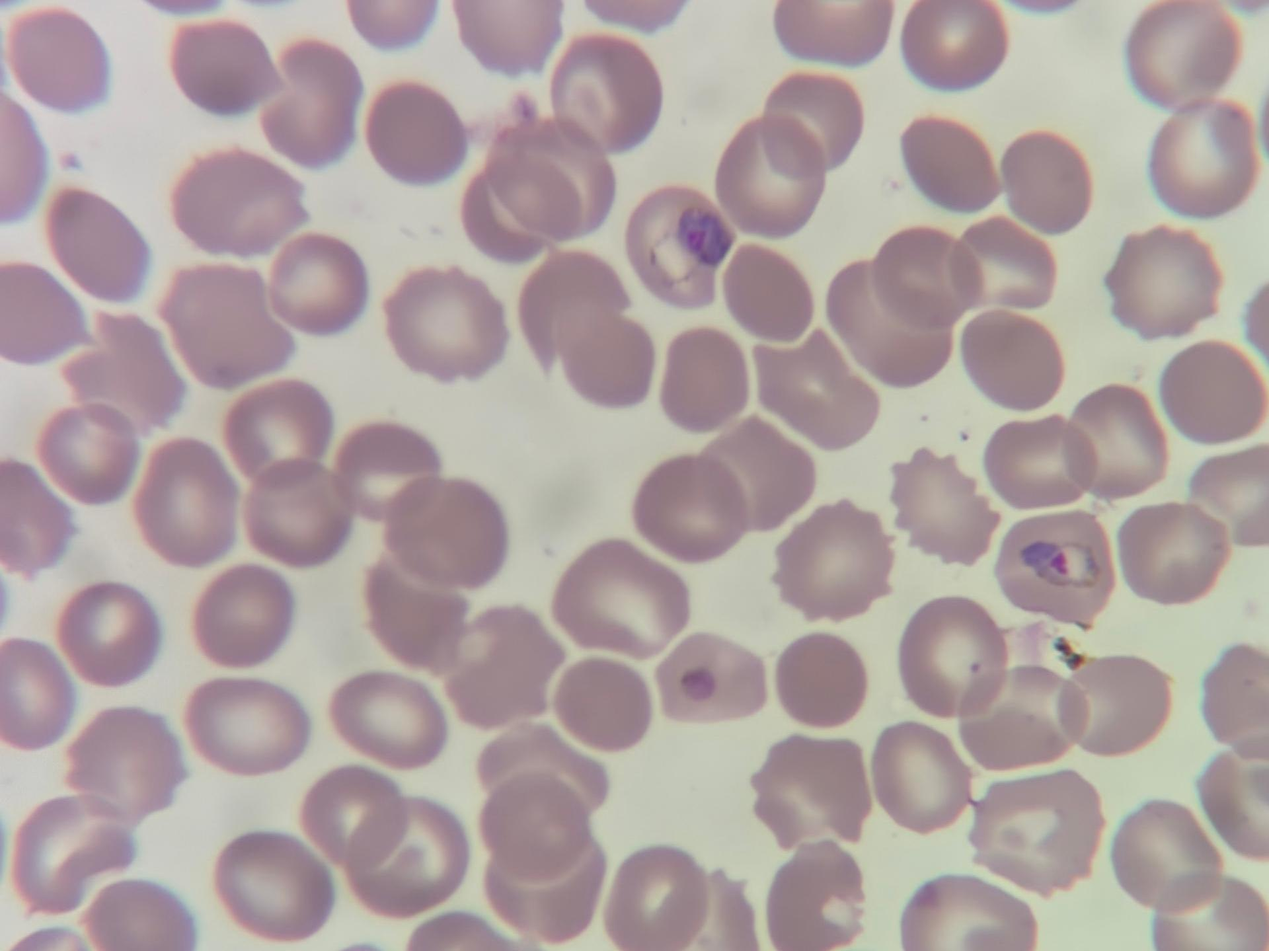Infected: (998, 510, 1124, 636), (626, 177, 739, 308)
Uninfected: (476, 157, 626, 324), (161, 261, 301, 393), (335, 803, 474, 932), (626, 457, 761, 587), (762, 322, 884, 462), (820, 258, 949, 389), (972, 767, 1109, 888), (1104, 223, 1238, 346), (337, 426, 464, 550), (952, 662, 1090, 772), (775, 499, 894, 624), (436, 604, 554, 730), (15, 792, 132, 918), (485, 126, 617, 237), (560, 534, 683, 653), (892, 452, 1005, 581), (176, 151, 304, 262), (216, 377, 335, 496), (701, 120, 824, 234), (386, 265, 507, 380), (683, 424, 820, 525), (753, 737, 874, 849), (392, 485, 516, 594), (269, 45, 372, 176), (527, 247, 633, 374), (1146, 102, 1263, 214), (130, 437, 232, 565), (40, 181, 151, 298), (485, 831, 604, 940), (66, 318, 189, 423), (1124, 796, 1232, 915), (196, 677, 317, 783), (608, 833, 715, 951), (868, 225, 980, 337), (70, 710, 185, 819), (657, 322, 756, 448), (242, 452, 342, 574), (480, 721, 605, 818), (764, 842, 875, 950), (1128, 0, 1240, 107), (643, 633, 765, 730), (1035, 655, 1163, 747), (762, 71, 871, 179), (370, 78, 473, 190), (875, 710, 975, 825), (1066, 384, 1166, 499), (478, 772, 586, 878), (185, 556, 294, 661), (901, 600, 1003, 711), (59, 578, 154, 696), (555, 36, 655, 148), (963, 309, 1062, 421), (1115, 502, 1228, 599), (273, 239, 386, 334), (996, 122, 1078, 251), (330, 666, 442, 759), (40, 406, 138, 512), (4, 5, 101, 105), (172, 27, 272, 124), (908, 1, 1011, 95), (908, 875, 1035, 951), (952, 212, 1058, 302), (903, 120, 994, 223), (778, 626, 872, 724), (368, 567, 458, 669), (987, 426, 1096, 509), (725, 245, 812, 346), (560, 305, 651, 401), (300, 772, 408, 849)
